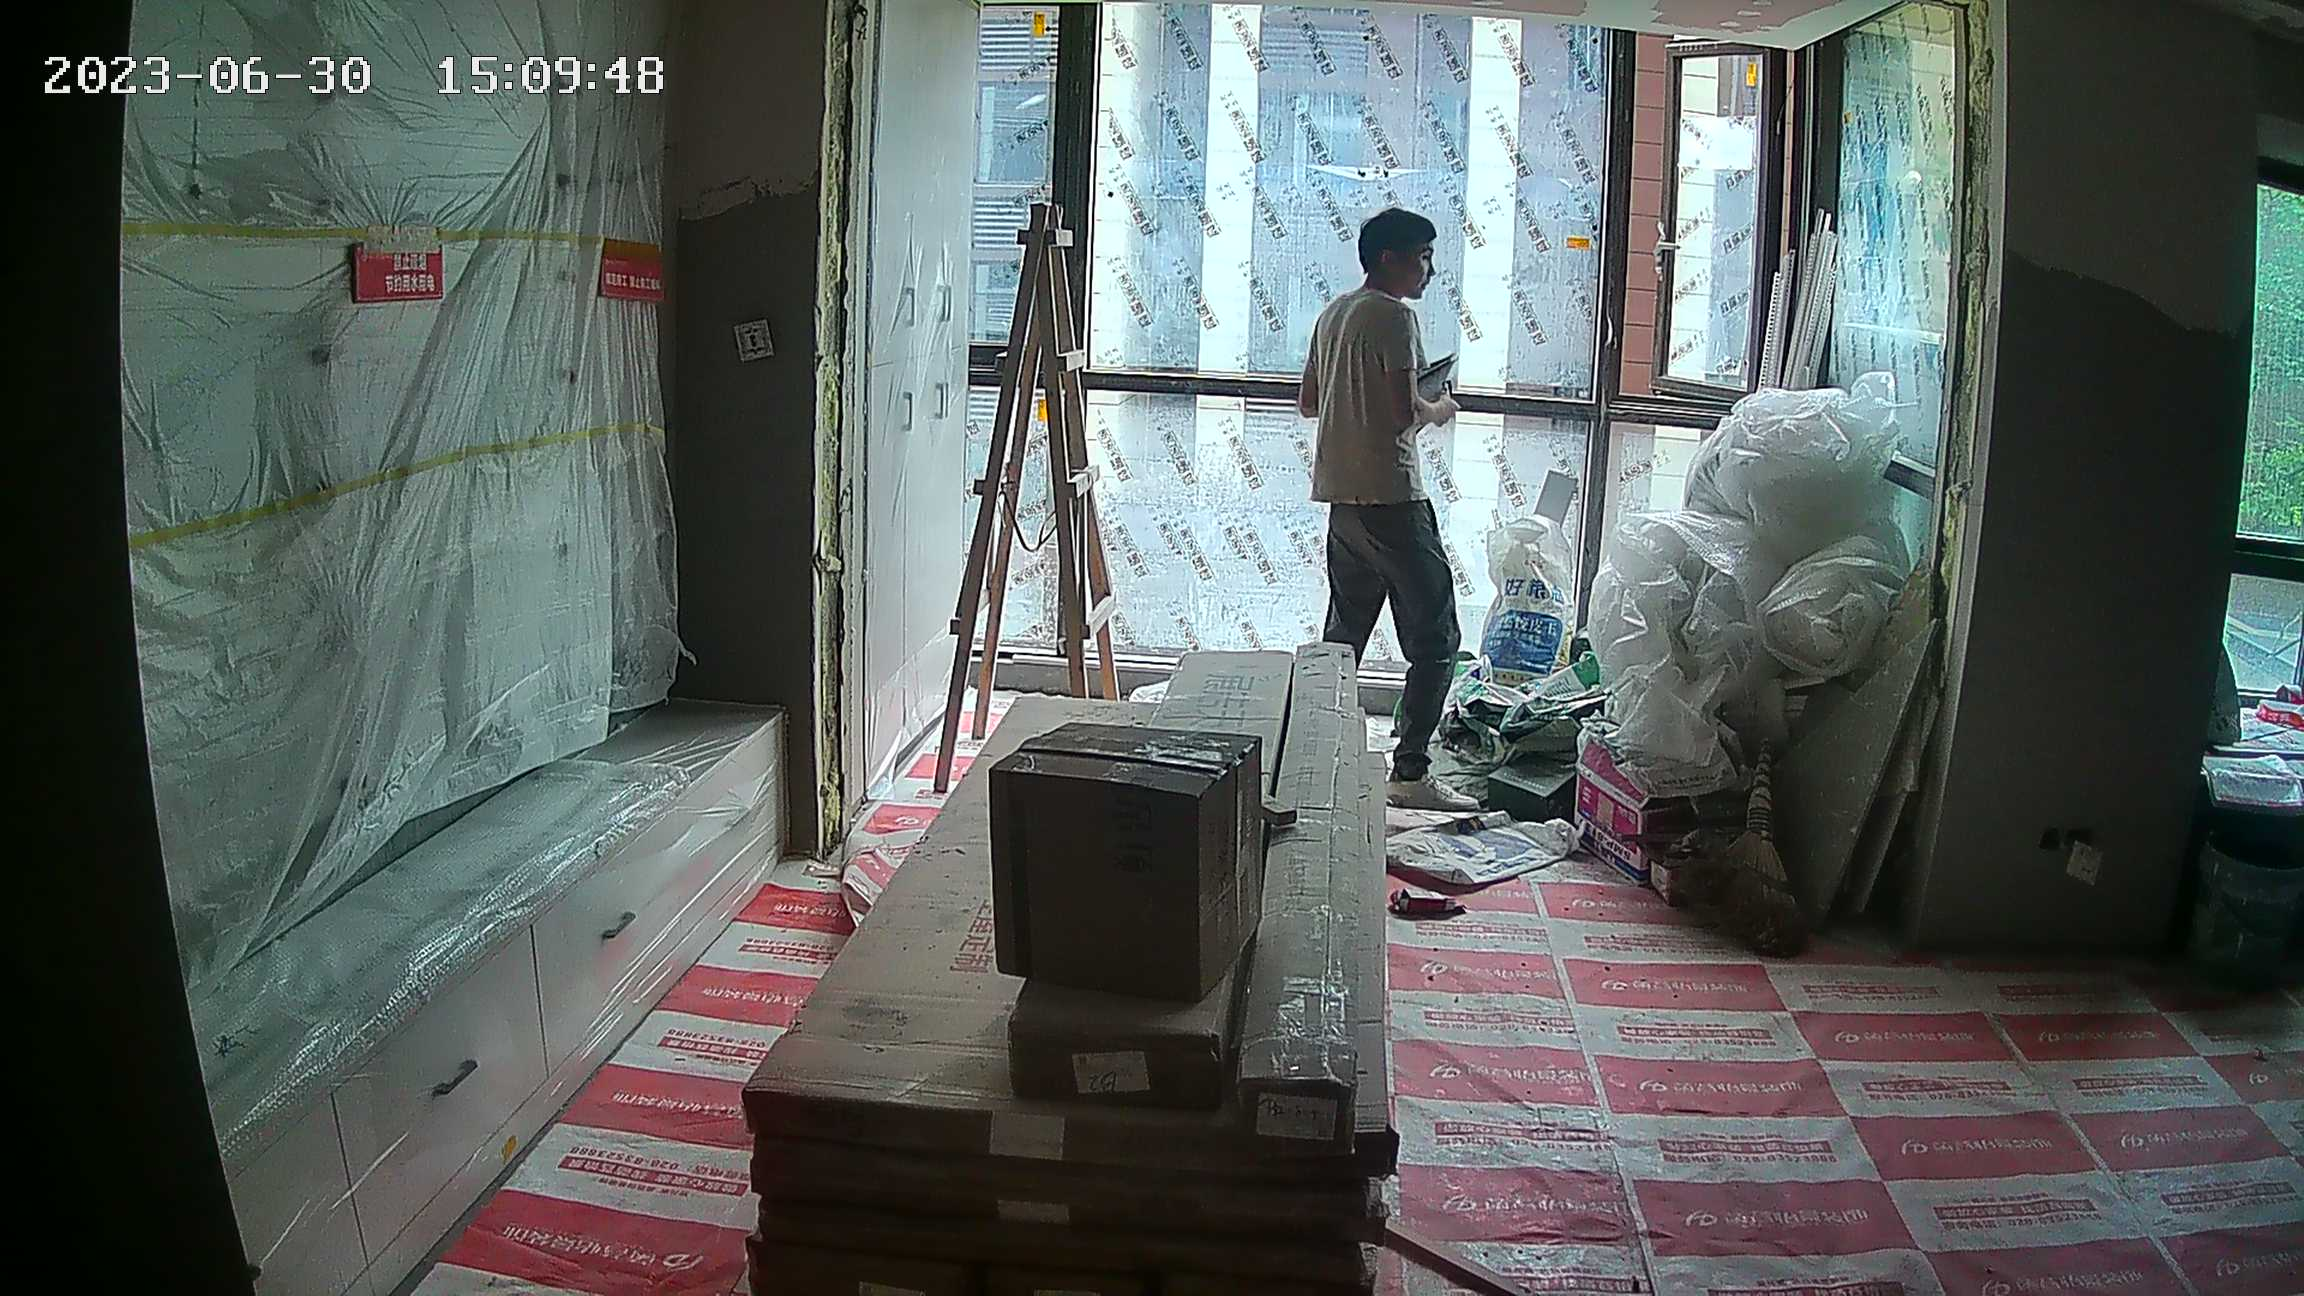people: (1293, 204, 1487, 808)
window: (982, 9, 1970, 725), (2233, 152, 2304, 703)
